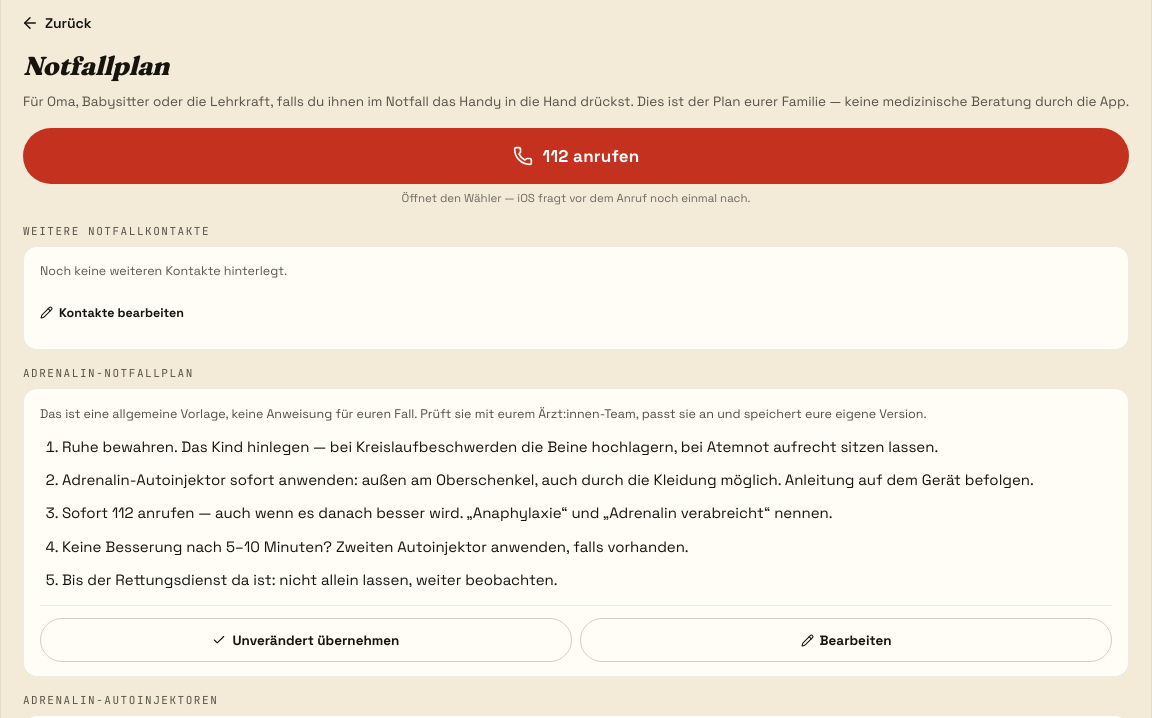
Test case: EmergencyScreen (F4) › 'Bearbeiten' opens the editor with each step's full, untruncated text as its value
Click the button with aria-label "Notfallplan bearbeiten": (846, 640) [580, 618, 1112, 662]
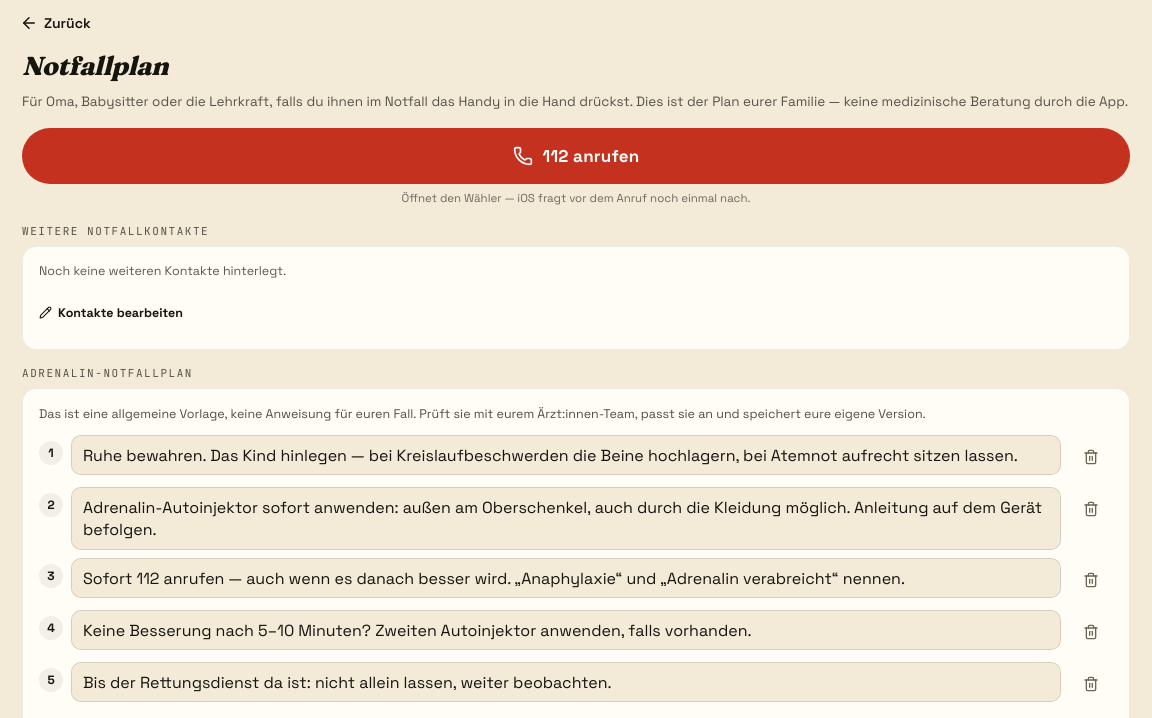
Check: the text box showing "Ruhe bewahren. Das Kind hinlegen — bei Kreislaufbeschwerden die Beine hochlagern, bei Atemnot aufrecht sitzen lassen." is shown, box [71, 435, 1061, 475]
Check: the text box showing "Adrenalin-Autoinjektor sofort anwenden: außen am Oberschenkel, auch durch die Kleidung möglich. Anleitung auf dem Gerät " is shown, box [71, 487, 1061, 550]
Check: the text box showing "Sofort 112 anrufen — auch wenn es danach besser wird. „Anaphylaxie“ und „Adrenalin verabreicht“ nennen." is shown, box [71, 558, 1061, 598]
